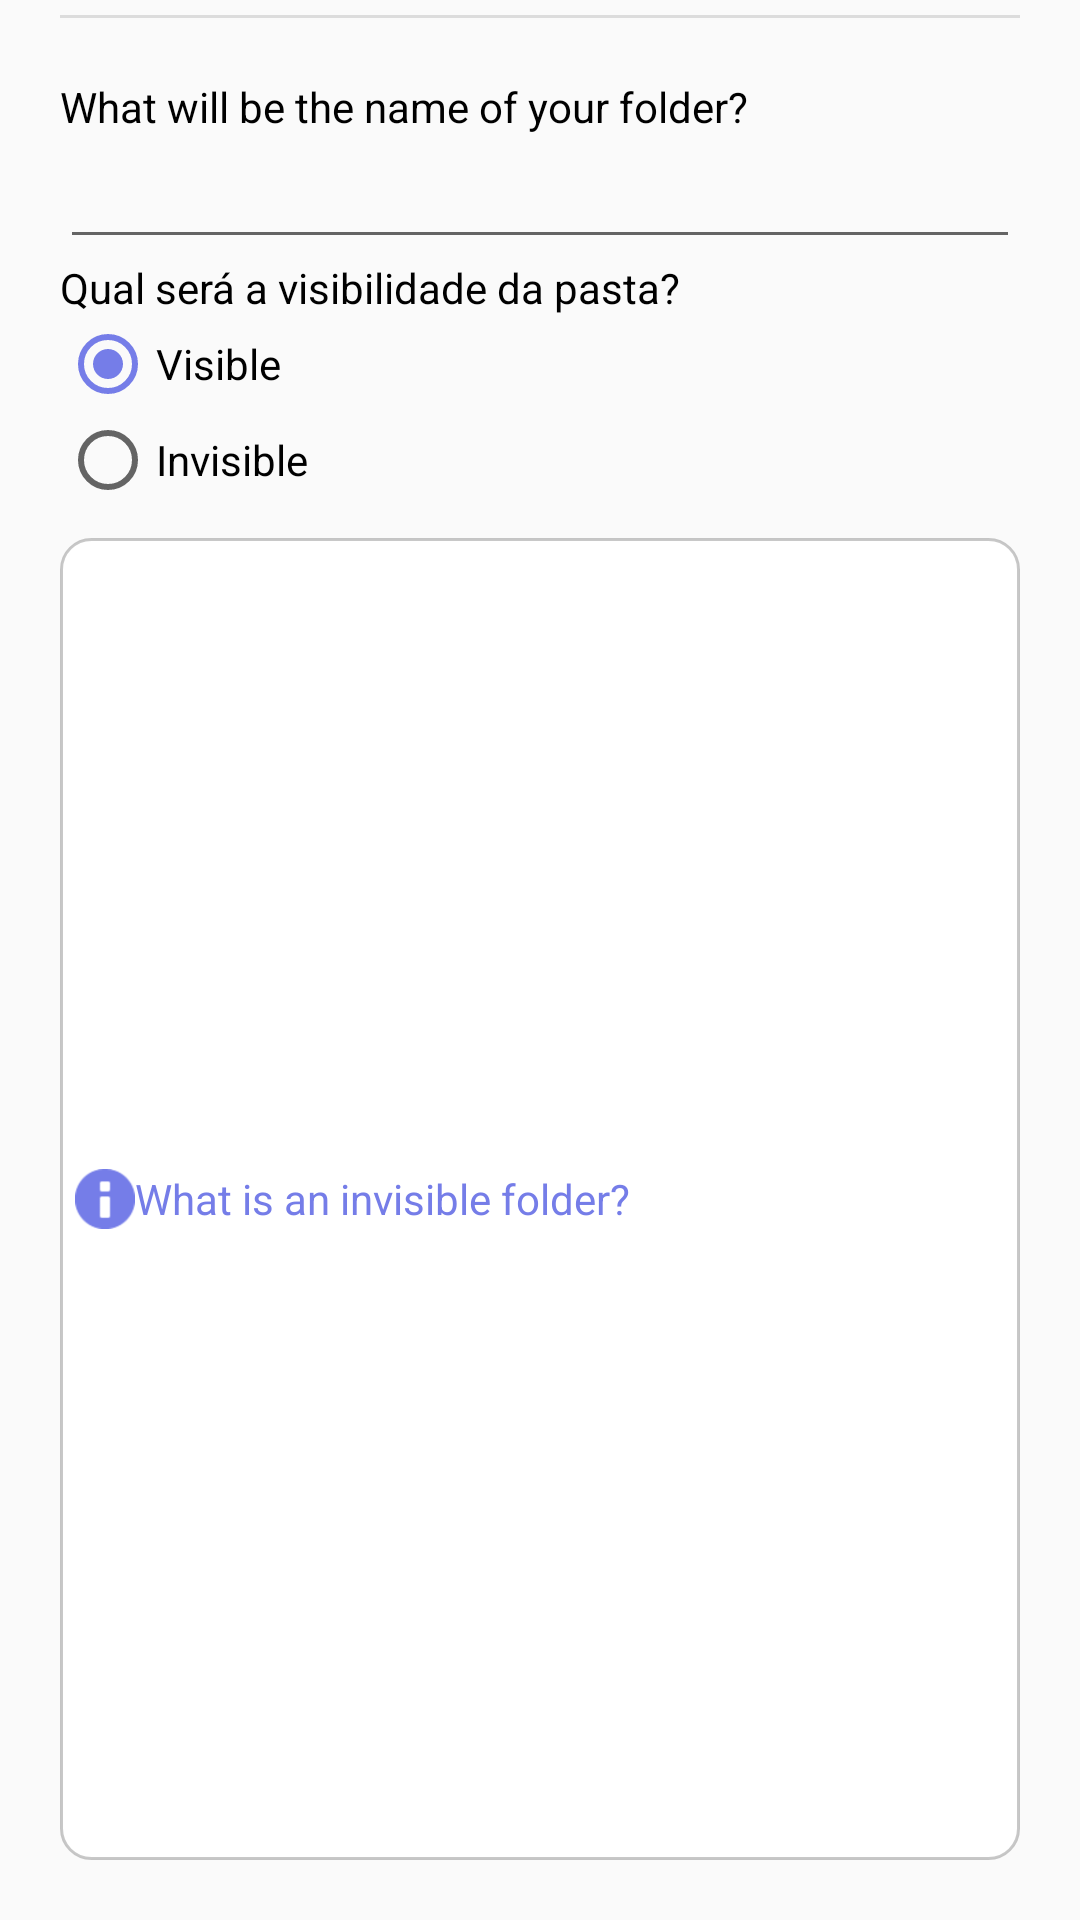

Point at icon controls on the screen. Image size 1080px x 1920px, points as [x,y].
info: [105,1199]
